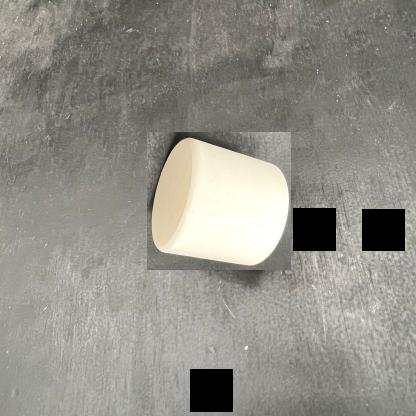white cylinder: (147, 132, 291, 270)
